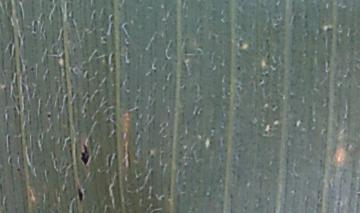tarspot: (79, 144, 93, 166), (76, 187, 85, 203), (32, 19, 40, 34), (45, 112, 52, 119), (15, 166, 22, 173), (29, 65, 35, 72), (236, 65, 242, 71), (108, 15, 114, 21)
